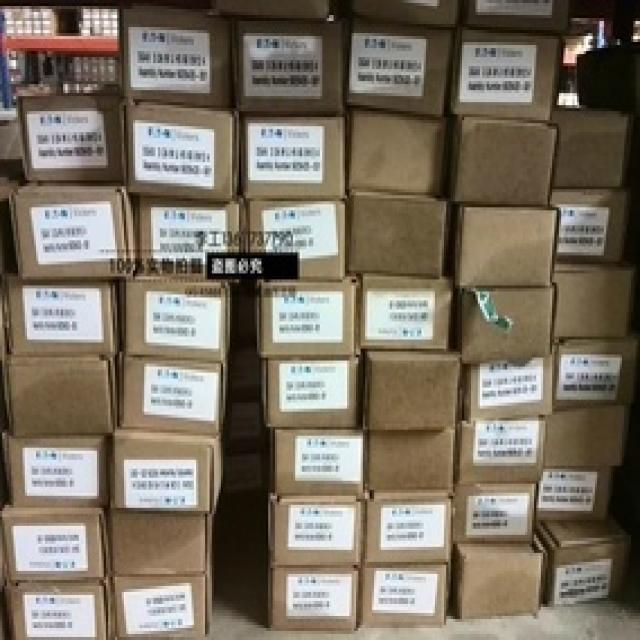box: (124, 90, 242, 205), (8, 179, 132, 278), (231, 12, 346, 115), (122, 7, 234, 111), (5, 258, 125, 354), (347, 16, 457, 116), (110, 420, 224, 514), (450, 31, 564, 124), (122, 266, 231, 362), (448, 115, 558, 210), (2, 350, 118, 436), (18, 93, 127, 183), (0, 427, 113, 511), (349, 107, 451, 200), (122, 352, 229, 440), (457, 201, 562, 289), (243, 114, 349, 200), (138, 195, 243, 279), (0, 504, 107, 586), (347, 189, 444, 279), (256, 276, 357, 361), (535, 514, 630, 603), (445, 535, 541, 620), (248, 202, 346, 284), (362, 348, 459, 428), (265, 492, 367, 568), (359, 273, 456, 351), (110, 504, 213, 575), (462, 285, 552, 365), (458, 352, 553, 424), (109, 573, 215, 637), (363, 490, 450, 567), (260, 362, 359, 429), (272, 428, 368, 497), (552, 106, 630, 190), (552, 187, 632, 266), (554, 265, 635, 343), (265, 564, 359, 631), (458, 419, 548, 488), (3, 579, 108, 637), (555, 339, 638, 408), (367, 427, 454, 492), (543, 405, 627, 468), (360, 565, 449, 623), (533, 465, 614, 528), (450, 486, 537, 542), (466, 0, 568, 33), (347, 0, 459, 28), (217, 1, 333, 20)
